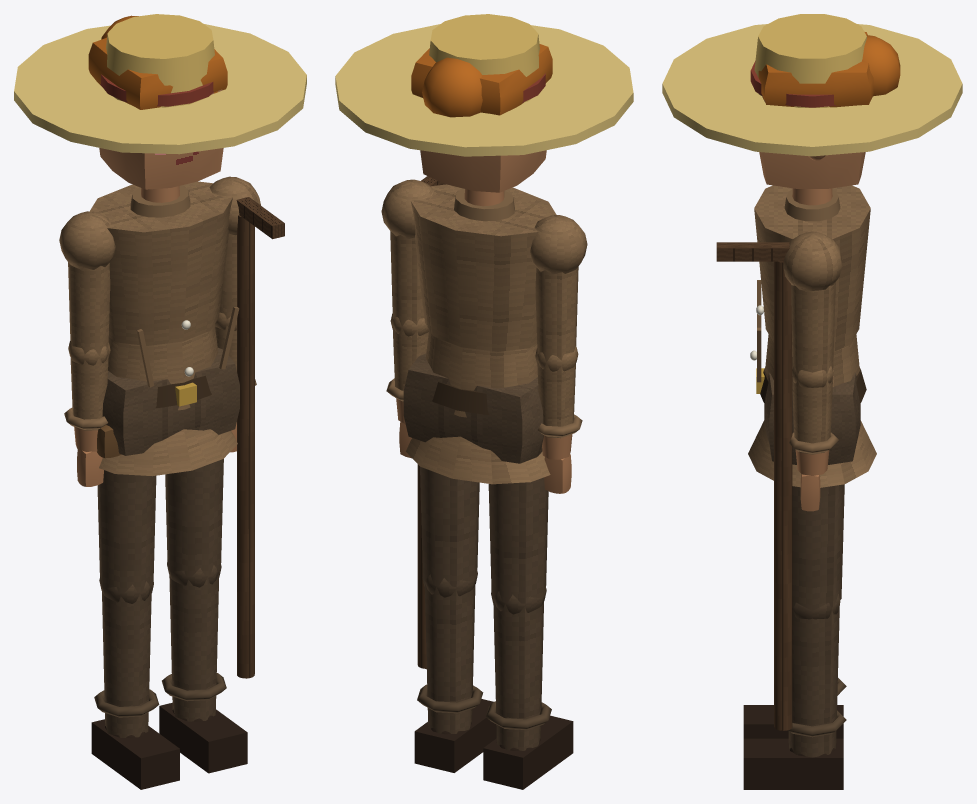
The model's file is pastora.glb.
3 renders of one model, left to right at view 1: azimuth 30°, elevation 25°; view 2: azimuth 150°, elevation 25°; view 3: azimuth 270°, elevation 25°, orthographic.
Visible parts, largest first — view 1: pastora, object 36, object 28, object 37, object 1, object 9, object 3, object 7, object 6, object 12, object 31, object 15 (+14 smaller); view 2: pastora, object 36, object 1, object 3, object 9, object 7, object 37, object 31, object 6, object 15, object 12, object 35 (+15 smaller); view 3: object 36, pastora, object 28, object 37, object 9, object 7, object 12, object 22, object 31, object 34, object 21, object 24 (+11 smaller).
Boxes of the visible parts, x1,y1,x2,y2 form: pastora: (89,181,239,476); object 36: (14,23,306,154); object 28: (237,215,254,678); object 37: (106,14,214,107); object 1: (97,470,156,593); object 9: (169,572,219,721); object 3: (102,589,151,737); object 7: (165,459,223,576); object 6: (91,719,179,789); object 12: (159,702,247,773); object 31: (99,89,223,189); object 15: (68,262,110,356); pastora: (403,184,556,484); object 36: (335,24,633,156); object 1: (488,477,548,603); object 3: (493,599,543,750); object 9: (424,582,475,733); object 7: (420,466,479,586); object 37: (429,14,539,102); object 31: (420,150,546,192); object 6: (483,715,573,789); object 15: (535,266,578,362); object 12: (414,699,496,772); object 35: (422,57,482,117); object 36: (662,24,962,156); pastora: (748,185,876,487); object 28: (774,261,792,730); object 37: (754,14,866,107); object 9: (788,604,839,757); object 7: (792,484,844,610); object 12: (743,738,843,789); object 22: (791,282,835,374); object 31: (759,96,865,188); object 34: (758,32,873,107); object 21: (783,231,841,290); object 24: (792,372,833,454).
Size of the model in its own units: 0.7146 by 1.91 by 0.7146.
Materials: 18 (4 with a texture image).
